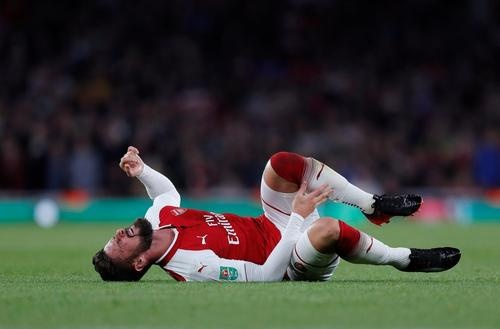falling: (94, 138, 467, 284)
